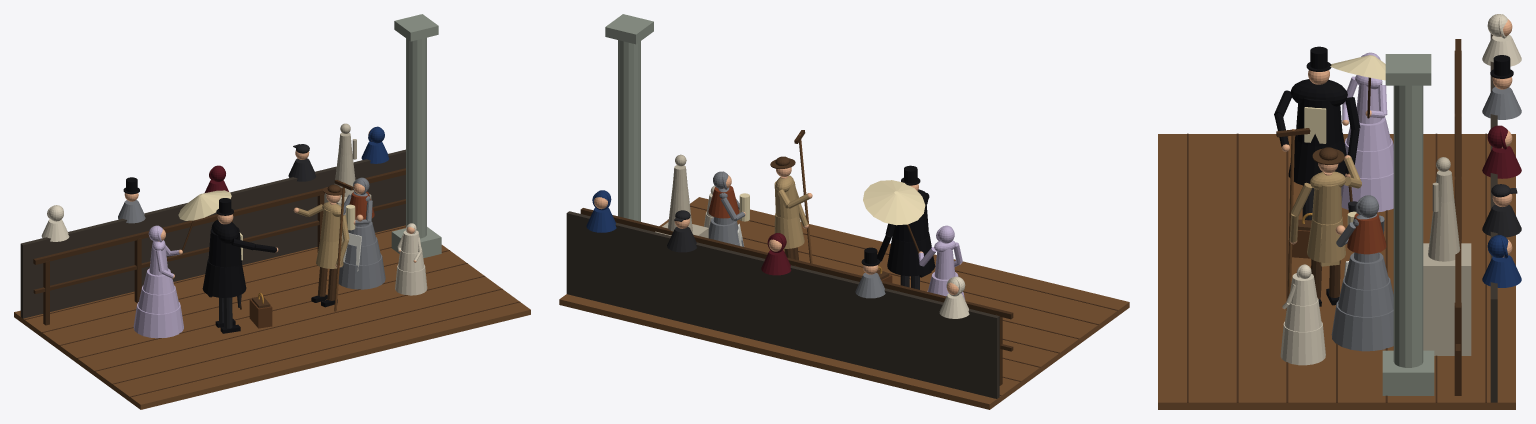
The model's file is scan-fig46-pound-and-a-shilling-muse.glb.
The picture shows the model from 3 angles, left to right: view 1: azimuth 30°, elevation 25°; view 2: azimuth 150°, elevation 25°; view 3: azimuth 270°, elevation 25°; orthographic projection. The views are drawn at different scales.
Visible parts, largest first — view 1: Floor, Hoarding, ColumnShaft, RailTop, RailMid, Gent_coatskirt, GentsWife_skirt1, LabWife_skirt1, ParasolCanopy, Gent_torso, ColumnCapital, GentsWife_skirt2 (+16 smaller); view 2: Hoarding, Floor, ColumnShaft, RailTop, ParasolCanopy, Gent_coatskirt, ColumnCapital, Labourer_coatskirt, Gent_torso, StatueRobe, LabWife_shawl, Crowd3_shoulders (+7 smaller); view 3: Floor, ColumnShaft, Pedestal, LabWife_skirt1, ColumnBase, RailTop, StatueRobe, LabWife_skirt2, Girl_skirt1, ColumnCapital, Hoarding, Labourer_coatskirt (+35 smaller).
Boxes of the visible parts, left/top/right/bottom form: Floor: left=14, top=225, right=530, bottom=409; Hoarding: left=20, top=149, right=405, bottom=318; ColumnShaft: left=406, top=37, right=426, bottom=238; RailTop: left=33, top=168, right=405, bottom=264; RailMid: left=33, top=199, right=405, bottom=293; Gent_coatskirt: left=202, top=258, right=246, bottom=297; GentsWife_skirt1: left=133, top=302, right=183, bottom=338; LabWife_skirt1: left=338, top=254, right=385, bottom=289; ParasolCanopy: left=178, top=190, right=231, bottom=220; Gent_torso: left=208, top=226, right=241, bottom=267; ColumnCapital: left=394, top=14, right=438, bottom=41; GentsWife_skirt2: left=138, top=285, right=179, bottom=313; Hoarding: left=566, top=211, right=999, bottom=398; Floor: left=559, top=197, right=1129, bottom=409; ColumnShaft: left=618, top=40, right=640, bottom=221; RailTop: left=580, top=208, right=1013, bottom=319; ParasolCanopy: left=863, top=180, right=925, bottom=225; Gent_coatskirt: left=887, top=233, right=935, bottom=276; ColumnCapital: left=605, top=14, right=653, bottom=44; Labourer_coatskirt: left=774, top=213, right=804, bottom=248; Gent_torso: left=892, top=201, right=928, bottom=242; StatueRobe: left=668, top=187, right=692, bottom=232; LabWife_shawl: left=708, top=186, right=739, bottom=218; Crowd3_shoulders: left=667, top=227, right=696, bottom=252; Floor: left=1158, top=134, right=1515, bottom=409; ColumnShaft: left=1393, top=85, right=1423, bottom=367; Pedestal: left=1423, top=243, right=1471, bottom=355; LabWife_skirt1: left=1331, top=300, right=1393, bottom=351; ColumnBase: left=1382, top=350, right=1434, bottom=395; RailTop: left=1455, top=39, right=1461, bottom=313; StatueRobe: left=1428, top=199, right=1460, bottom=261; LabWife_skirt2: left=1338, top=277, right=1393, bottom=316; Girl_skirt1: left=1280, top=321, right=1325, bottom=365; ColumnCapital: left=1385, top=54, right=1431, bottom=85; Hoarding: left=1490, top=33, right=1497, bottom=402; Labourer_coatskirt: left=1307, top=217, right=1345, bottom=262.
Size of the model in its own units: 6.4 by 3.65 by 3.66.
